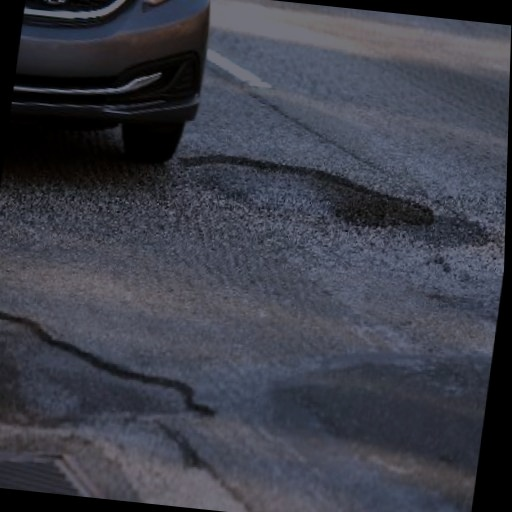pothole: (0, 302, 227, 446), (171, 144, 442, 240)
